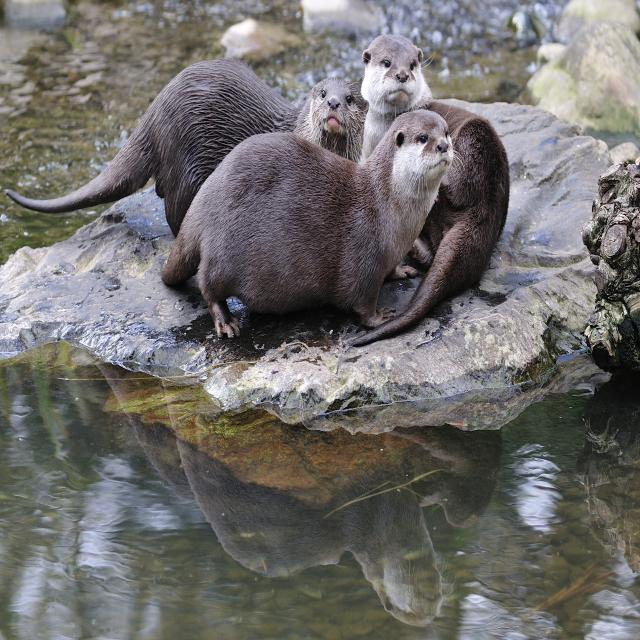otter: (170, 112, 455, 340), (9, 59, 367, 234), (365, 36, 510, 339)
